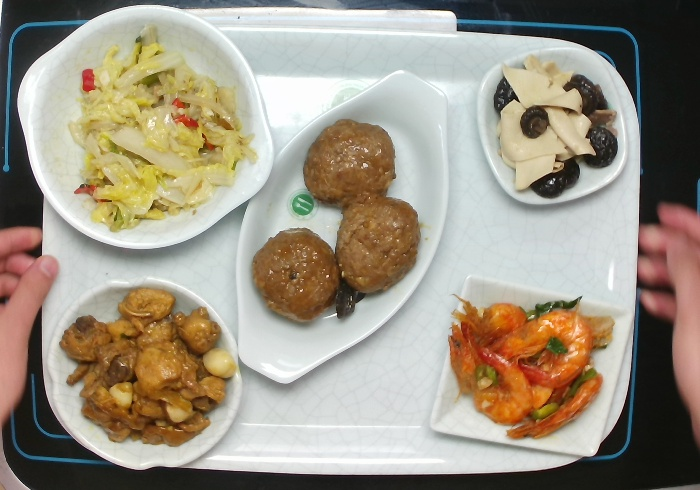JYsf-Ao_Yuan_Wan: (44, 272, 245, 472)
JYsf-Shuang_Er_Wan: (15, 2, 276, 251)
JYsf-Si_Fang_Die: (474, 45, 630, 207)
JYsf-Yu_Pan: (232, 66, 454, 385)
WCQzf-Ru_Ci_Si_Fang_Die: (427, 271, 636, 460)
